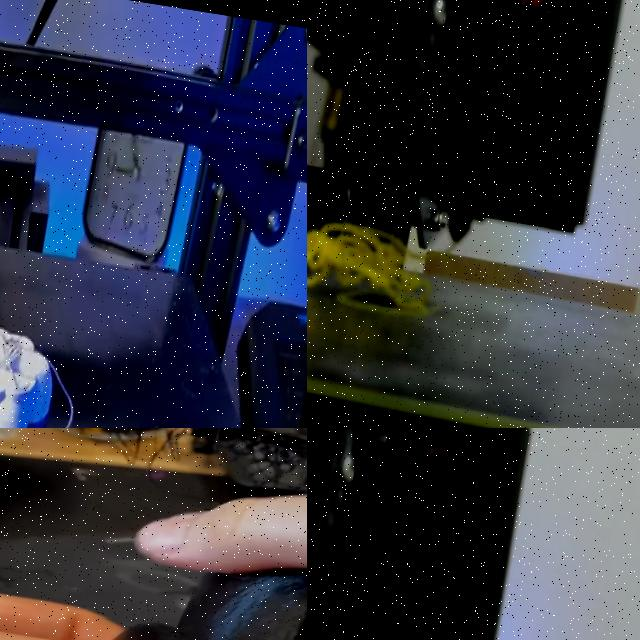spaghetti: (48, 428, 307, 520), (307, 222, 429, 313)
